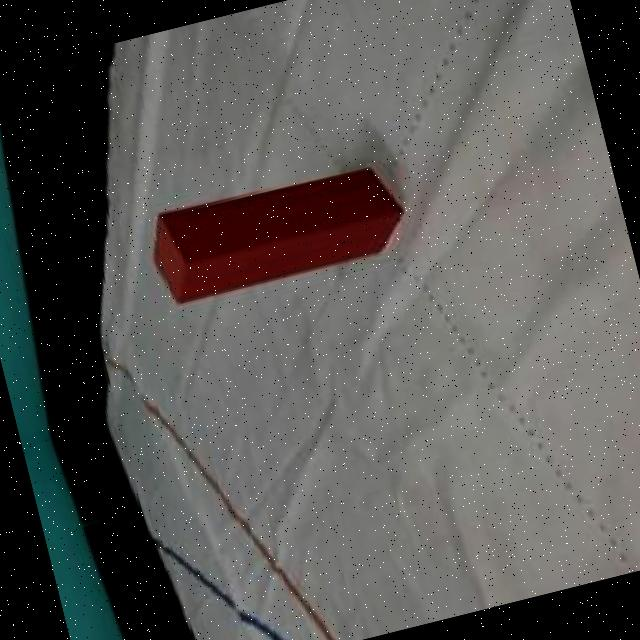redbox: (140, 154, 412, 306)
